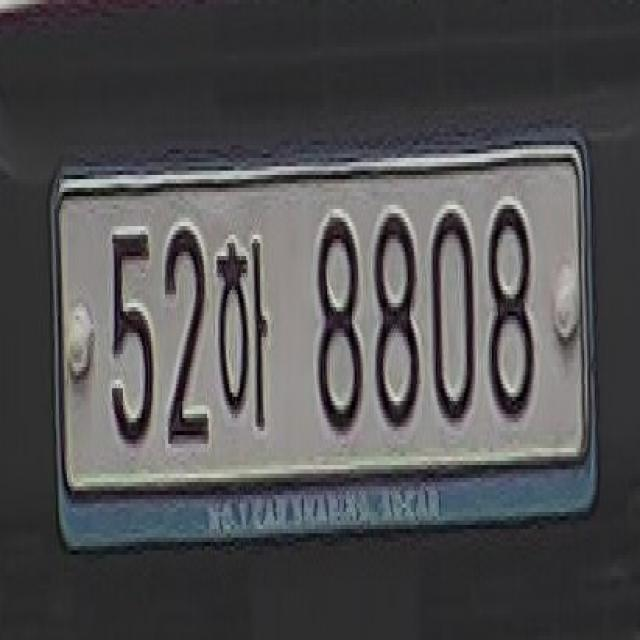0: (424, 198, 478, 434)
2: (160, 215, 212, 463)
5: (106, 209, 158, 454)
8: (309, 197, 366, 449), (370, 198, 422, 451), (485, 188, 536, 436)
ha: (212, 224, 269, 455)
license_plate: (48, 139, 593, 498)
